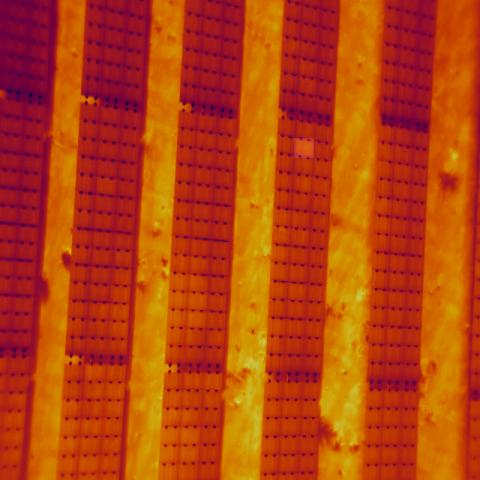fault: (294, 138, 314, 158)
